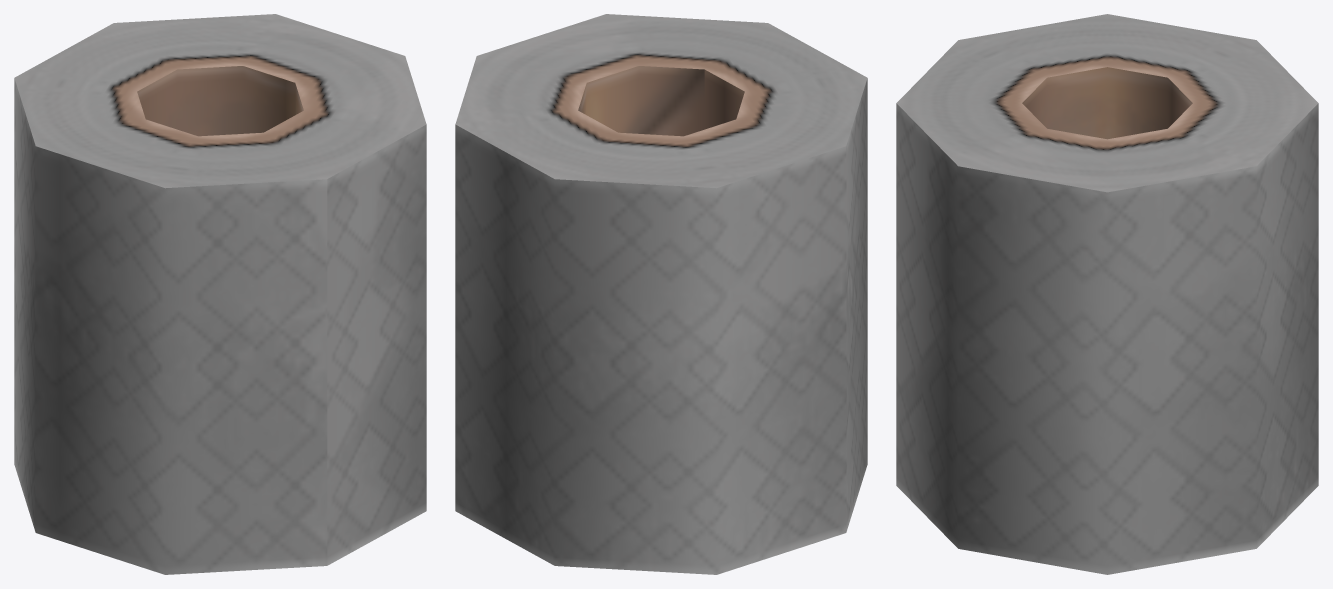
File: ITEM_toiletPaper_A.fbx
3 renders of one model, left to right at view 1: azimuth 30°, elevation 25°; view 2: azimuth 150°, elevation 25°; view 3: azimuth 270°, elevation 25°, orthographic.
Visible parts, largest first — view 1: ITEM_toiletPaper_A; view 2: ITEM_toiletPaper_A; view 3: ITEM_toiletPaper_A.
Part boxes in pixels (x1,y1,x2,y2): ITEM_toiletPaper_A: (14,14,426,574); ITEM_toiletPaper_A: (455,14,867,574); ITEM_toiletPaper_A: (896,14,1318,574).
Size of the model in its own units: 12 by 12 by 12.
